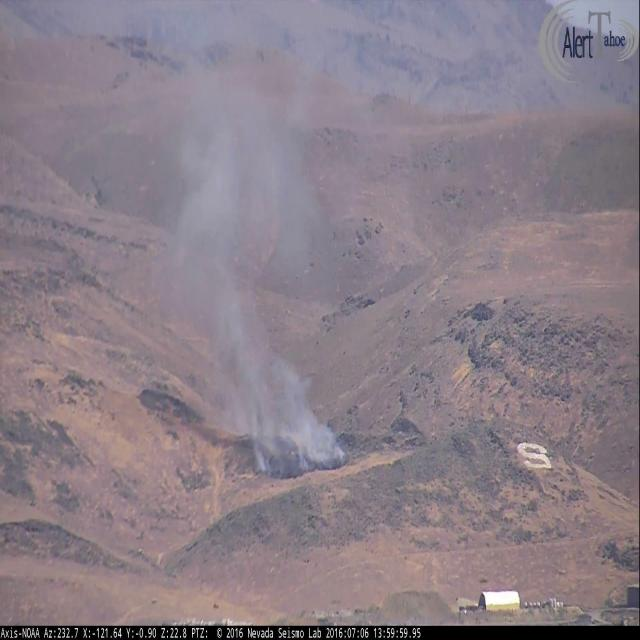smoke: (145, 9, 368, 495)
